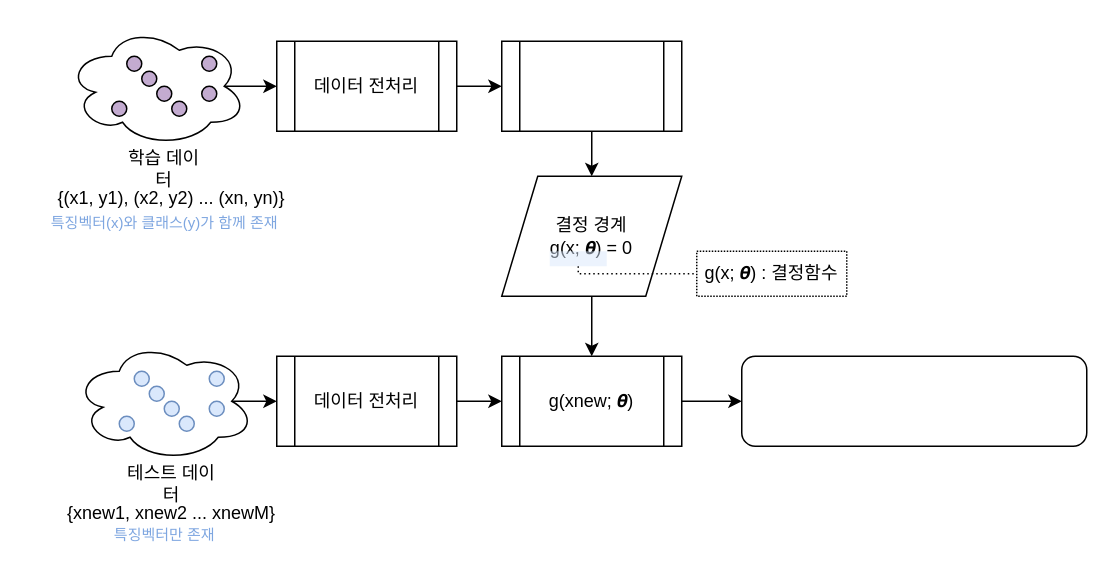
Image size: 1113x584. Some labels were removed from this diagram. The centre of each missing label's shape, as x and y in pixels:
ynew = 0 if g(xnew) >= 0 >> class1 ynew = 0 if g(xnew) < 0 >> class2: point (913, 400)
학습 (데이터 분석): point (591, 85)
